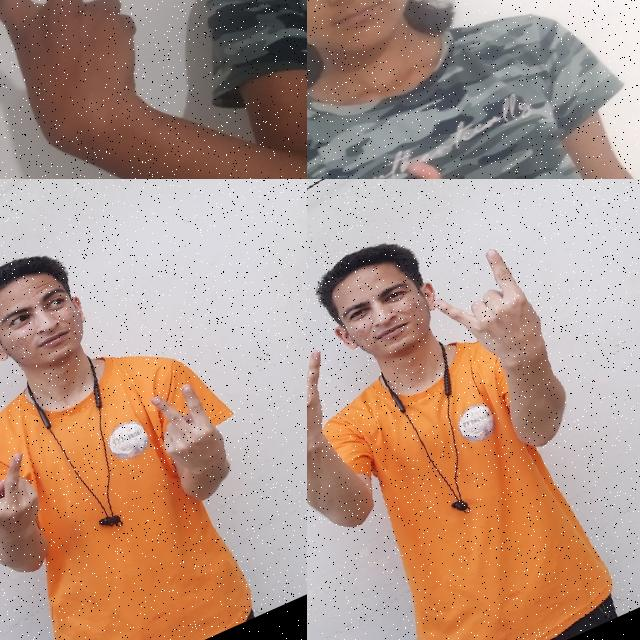Corna: (412, 234, 561, 392), (307, 316, 363, 475)
Reversed Victory: (0, 0, 225, 179), (126, 365, 244, 496), (0, 440, 69, 570)
Thumbs Up: (337, 126, 553, 179)
